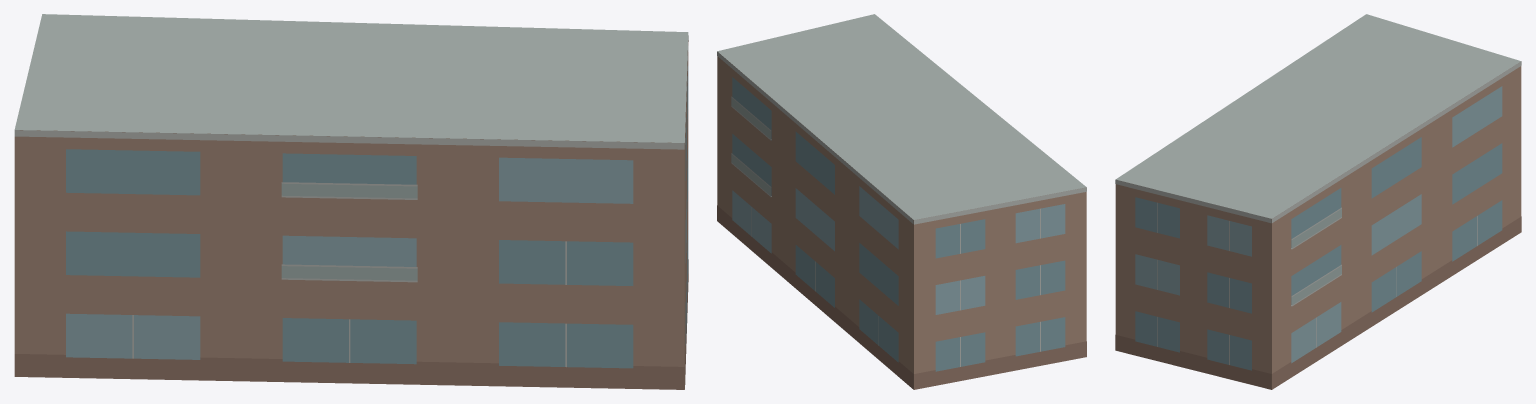
File: survey-upis-33016560.glb
The picture shows the model from 3 angles, left to right: view 1: azimuth 30°, elevation 25°; view 2: azimuth 150°, elevation 25°; view 3: azimuth 270°, elevation 25°; orthographic projection. The views are drawn at different scales.
Parts seen in each view (by area): view 1: survey-upis-33016560.tmp; view 2: survey-upis-33016560.tmp; view 3: survey-upis-33016560.tmp.
Part boxes in pixels (x1,y1,x2,y2): survey-upis-33016560.tmp: (14,14,688,389); survey-upis-33016560.tmp: (717,14,1086,389); survey-upis-33016560.tmp: (1115,14,1521,389).
Bounding box in the file's own units: 23.5 × 9.15 × 19.69.
